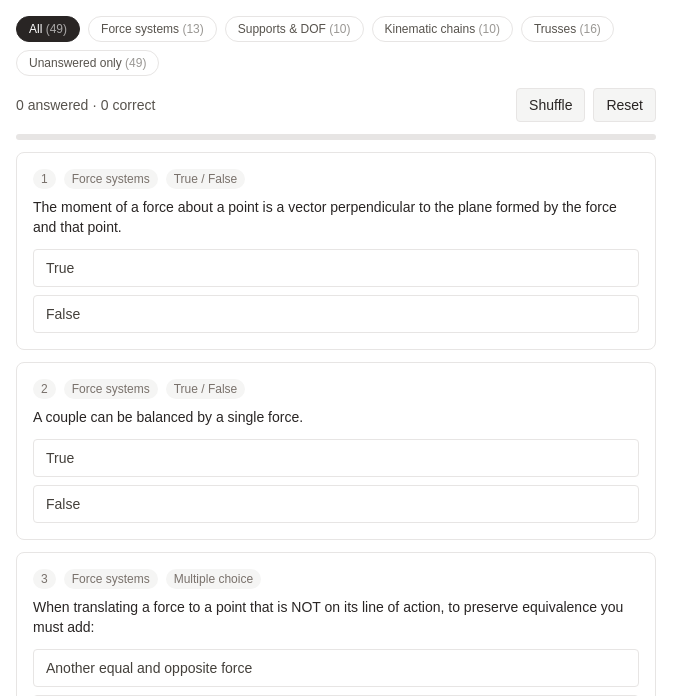
ClaudeQuiz › reset clears answers back to an unanswered state
Click the 1st button "True" at coordinates (60, 268), box [33,249,639,287]
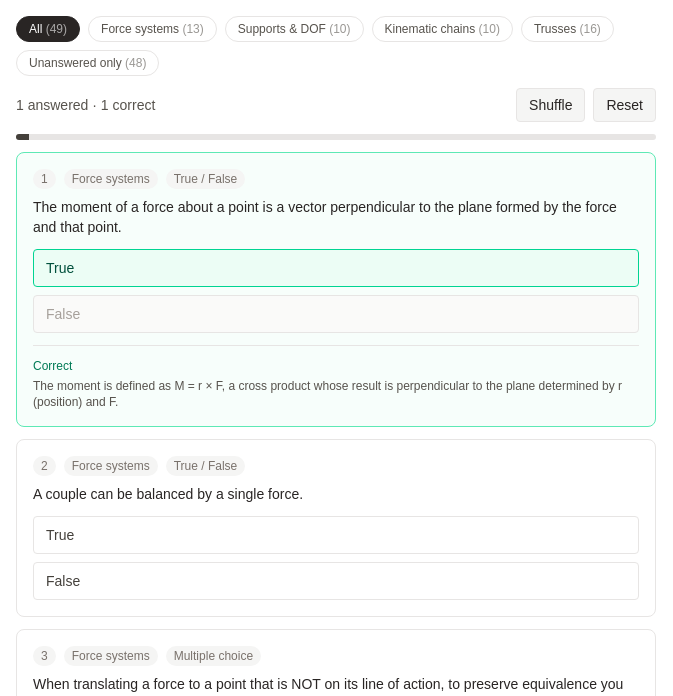
Expected: the text "1 answered · 1 correct" is shown, [16,95,155,115]
Click the button "Reset" at coordinates (625, 105), box [593,88,656,122]
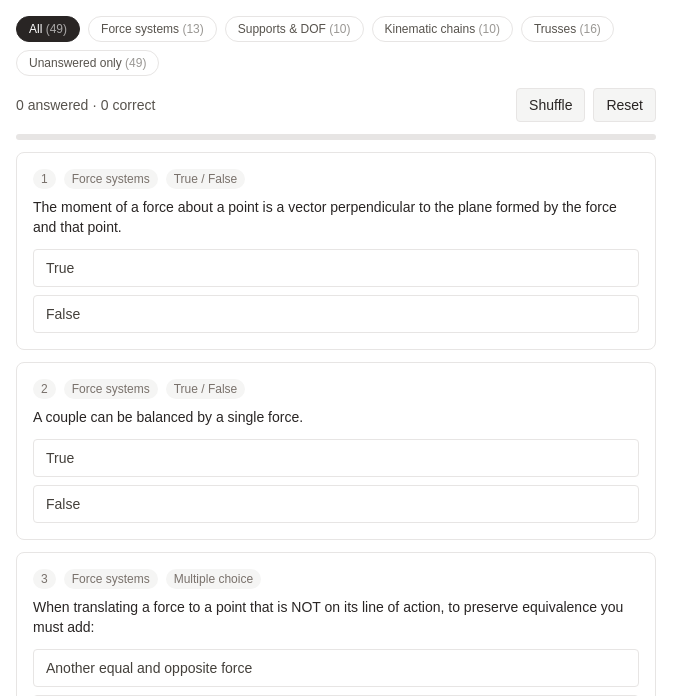
Expected: the text "0 answered · 0 correct" is shown, [16,95,155,115]
